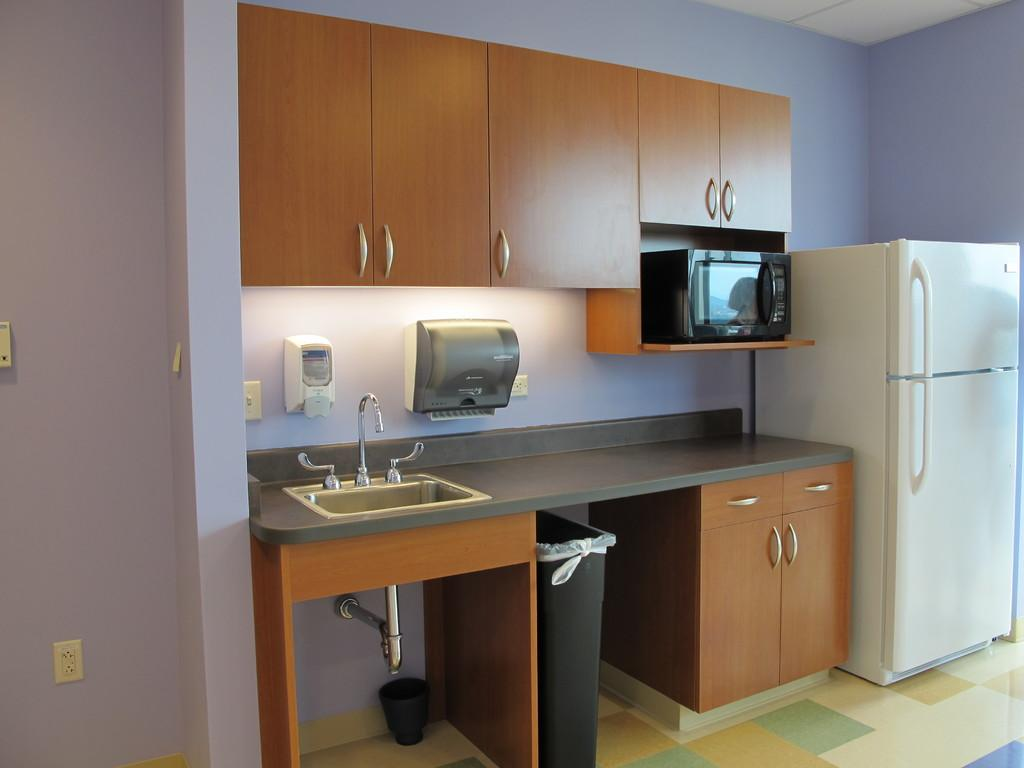cabinet_door: (235, 8, 367, 286), (492, 54, 631, 284), (374, 30, 486, 280), (907, 370, 1011, 635), (894, 237, 1012, 370), (634, 63, 720, 221), (706, 520, 780, 684), (719, 86, 791, 225), (783, 516, 845, 664), (706, 470, 788, 516), (785, 465, 857, 511)
handle: (908, 260, 938, 374), (911, 378, 935, 490), (348, 220, 374, 278), (376, 218, 396, 282), (492, 222, 513, 282), (782, 510, 800, 568), (704, 176, 722, 225), (800, 475, 834, 498), (770, 528, 784, 571), (730, 488, 760, 508), (721, 180, 735, 218)
